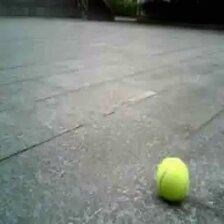tennis: (156, 159, 188, 199)
